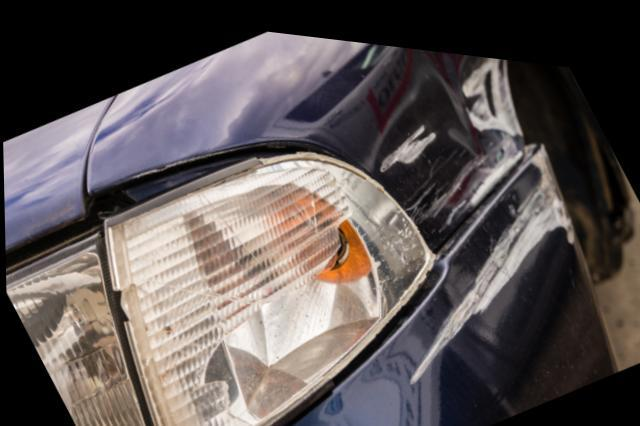dent: (402, 38, 523, 234)
lamp broken: (103, 148, 431, 426)
scratch: (405, 142, 577, 387), (376, 112, 435, 164)
